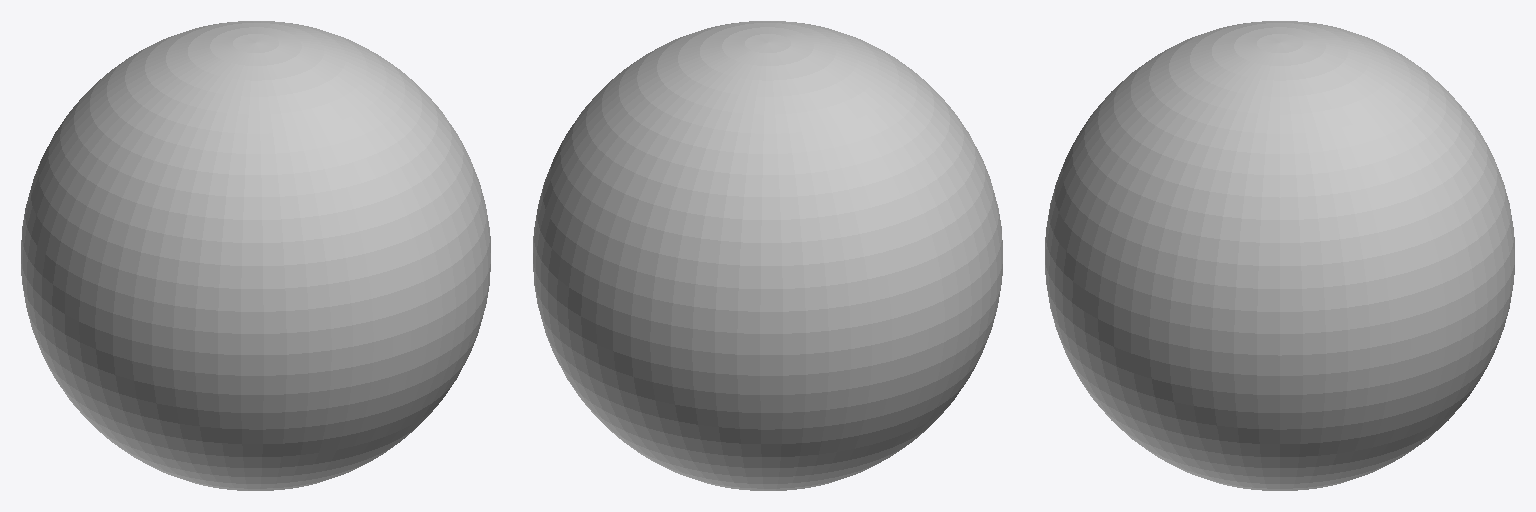
File: minilunae.obj
3 views of the same model, side by side, from view 1: azimuth 30°, elevation 25°; view 2: azimuth 150°, elevation 25°; view 3: azimuth 270°, elevation 25° (orthographic).
Visible parts, largest first — view 1: Sphere; view 2: Sphere; view 3: Sphere.
Boxes of the visible parts, <box> form: Sphere: <box>21,21,490,490</box>; Sphere: <box>533,21,1002,490</box>; Sphere: <box>1045,21,1514,490</box>.
Bounding box in the file's own units: 1042 × 1042 × 1042.